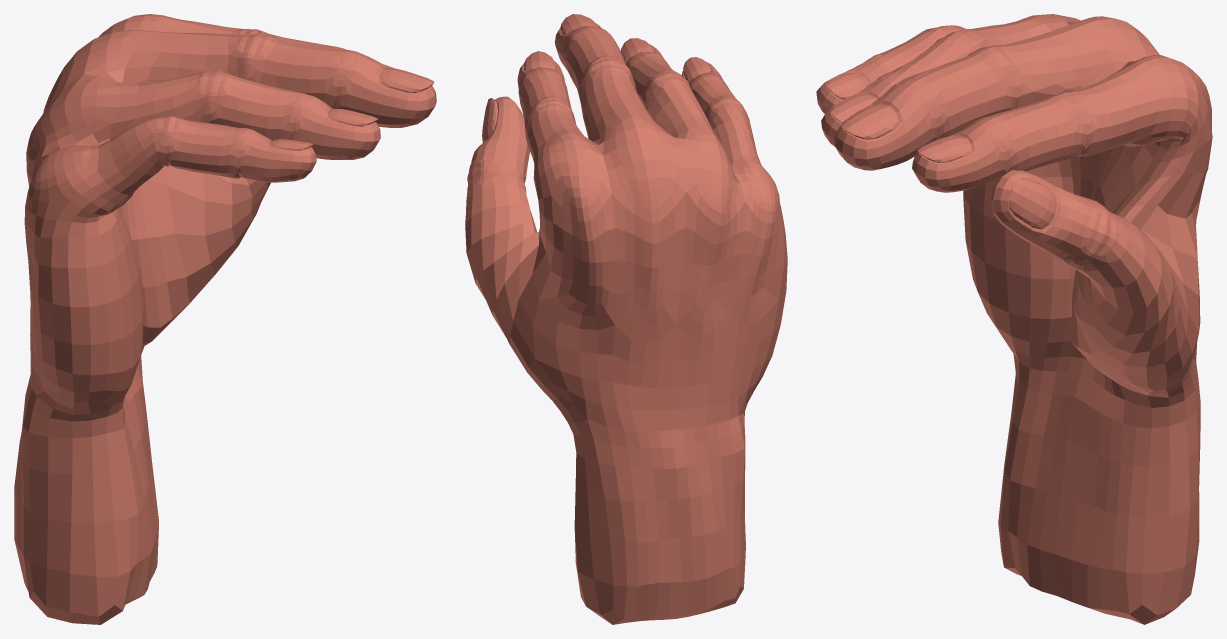
File: hhaa.glb
3 renders of one model, left to right at view 1: azimuth 30°, elevation 25°; view 2: azimuth 150°, elevation 25°; view 3: azimuth 270°, elevation 25°, orthographic. The views are drawn at different scales.
Parts seen in each view (by area): view 1: ZBrushPolyMesh3D; view 2: ZBrushPolyMesh3D; view 3: ZBrushPolyMesh3D.
Boxes of the visible parts, bbox=[...] form: ZBrushPolyMesh3D: bbox=[14, 14, 436, 624]; ZBrushPolyMesh3D: bbox=[465, 14, 787, 624]; ZBrushPolyMesh3D: bbox=[816, 14, 1212, 624].
Size of the model in its own units: 2.44 by 3.85 by 2.28.
